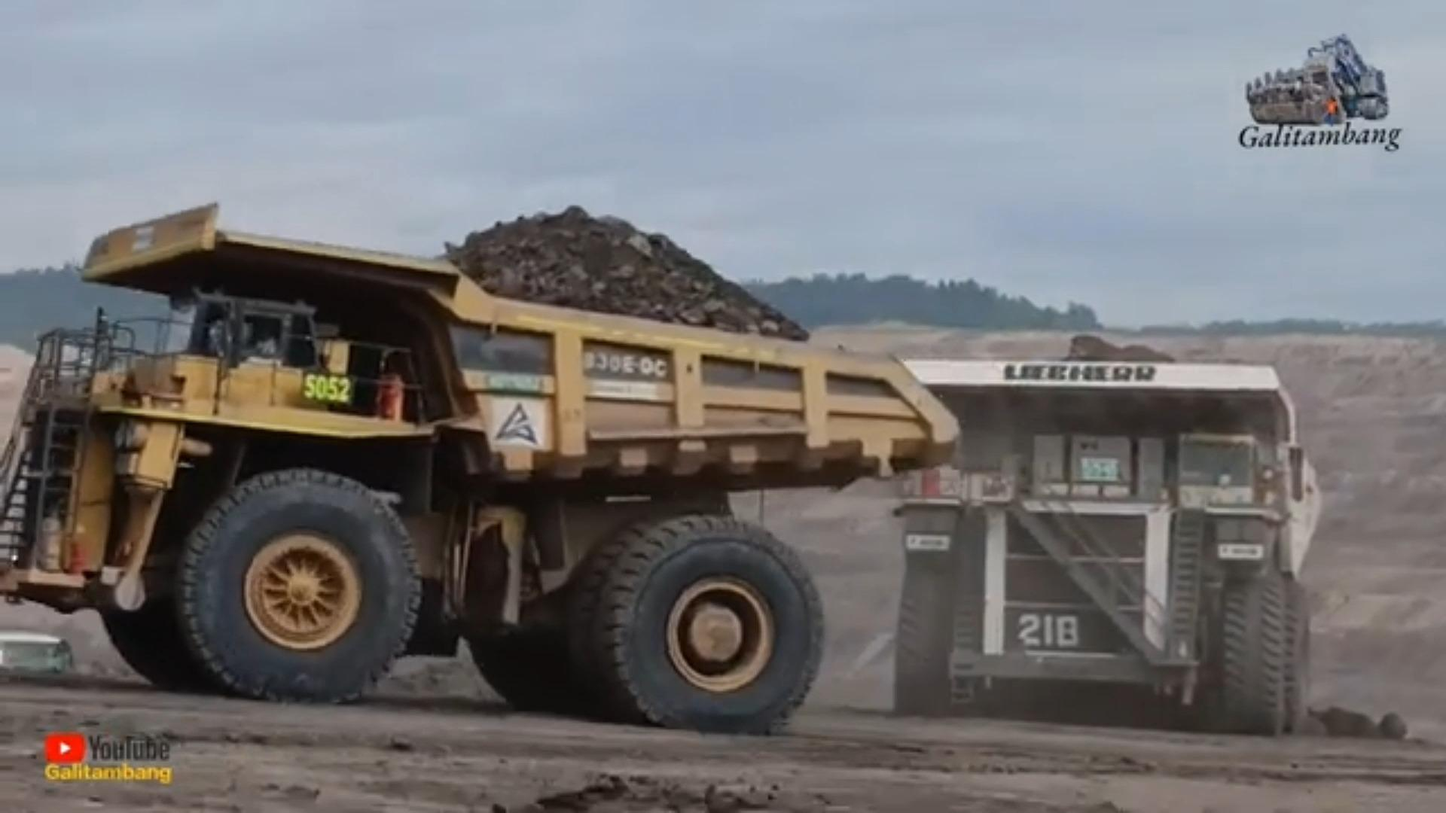HD-Truck: (0, 203, 961, 732), (891, 336, 1321, 735), (1017, 506, 1206, 688)
